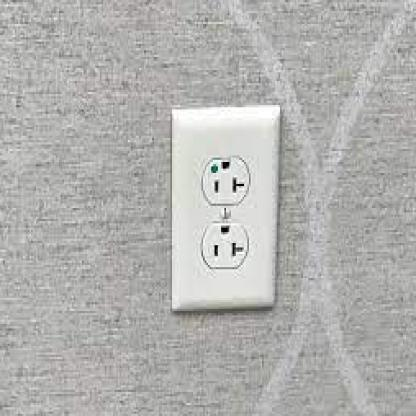OUTLET: (170, 110, 275, 308)
